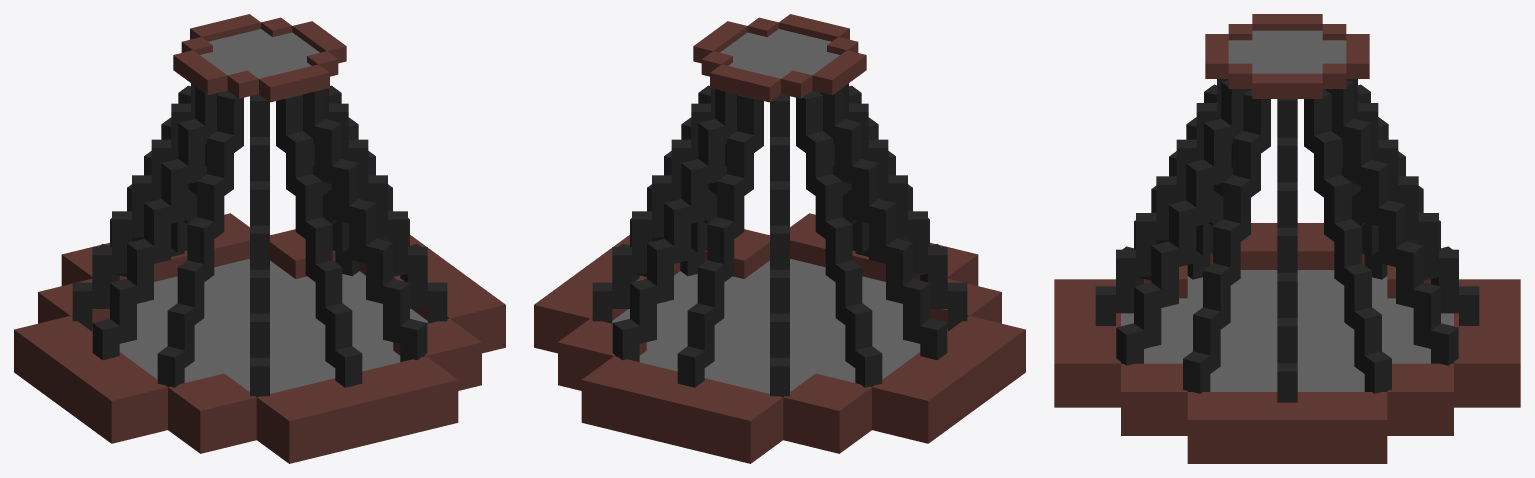
Rendered from Fireplace.fbx.
3 views of the same model, side by side, from view 1: azimuth 30°, elevation 25°; view 2: azimuth 150°, elevation 25°; view 3: azimuth 270°, elevation 25° (orthographic). The views are drawn at different scales.
Parts seen in each view (by area): view 1: Fire; view 2: Fire; view 3: Fire.
Part boxes in pixels (x1,y1,x2,y2): Fire: [14, 14, 505, 463]; Fire: [534, 14, 1025, 463]; Fire: [1054, 14, 1520, 463].
Size of the model in its own units: 134 by 100 by 134.
